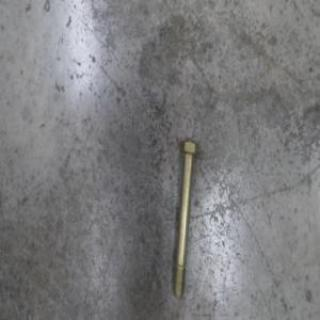Bolttrack_idkeyframe: (171, 138, 199, 299)
